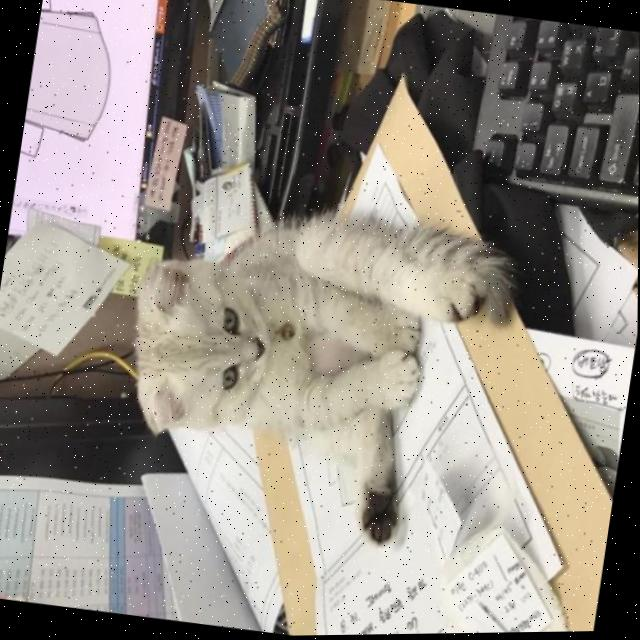Cats: (99, 155, 546, 495)
